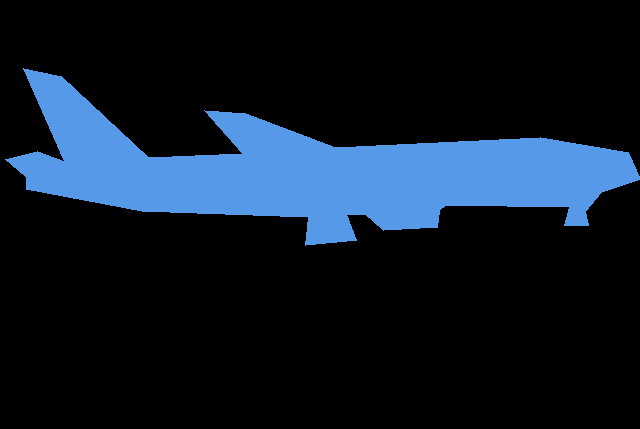Airplane: (5, 68, 640, 245)
